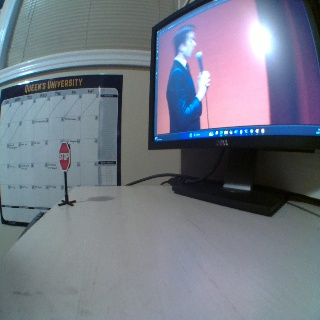sign_stop: (58, 142, 70, 170)
